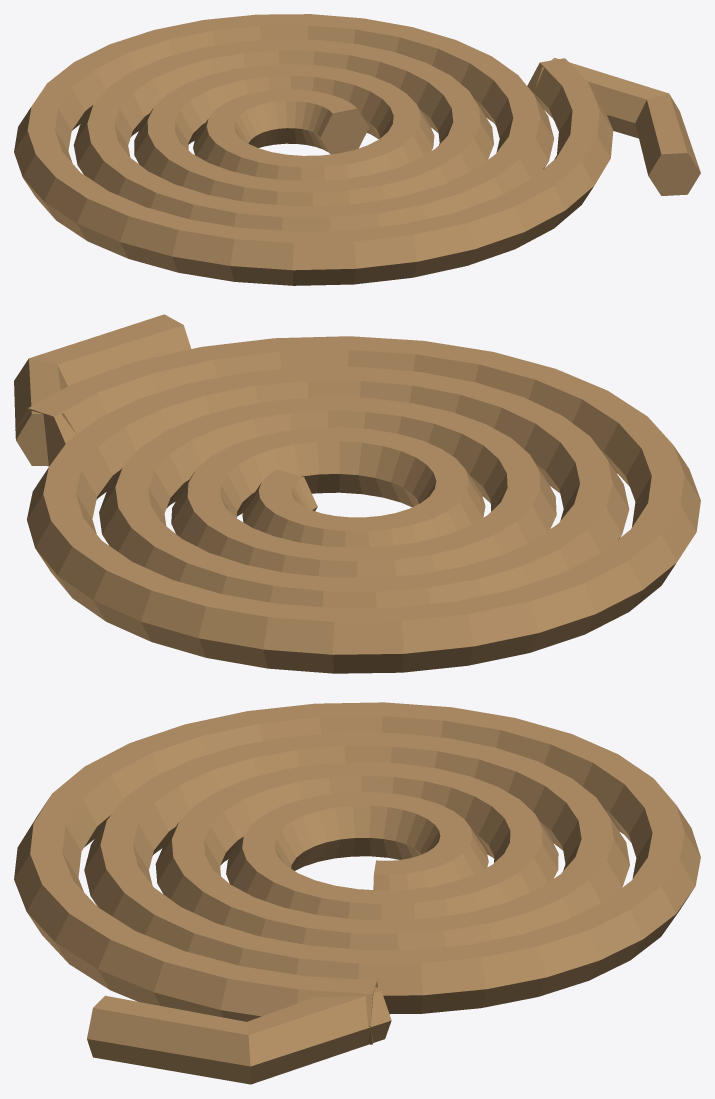
Rendered from rope_coil.glb.
3 renders of one model, top to bottom at view 1: azimuth 30°, elevation 25°; view 2: azimuth 150°, elevation 25°; view 3: azimuth 270°, elevation 25°, orthographic. The views are drawn at different scales.
Parts seen in each view (by area): view 1: Heavy rope coil, Trailing rope; view 2: Heavy rope coil, Trailing rope; view 3: Heavy rope coil, Trailing rope.
Part boxes in pixels (box(x1,y1,x2,y2)): Heavy rope coil: box(14, 14, 613, 285); Trailing rope: box(535, 57, 700, 195); Heavy rope coil: box(15, 336, 700, 673); Trailing rope: box(14, 314, 191, 465); Heavy rope coil: box(14, 702, 700, 1044); Trailing rope: box(87, 979, 391, 1084).
Bounding box in the file's own units: 1.01 × 0.0851 × 0.8716.
